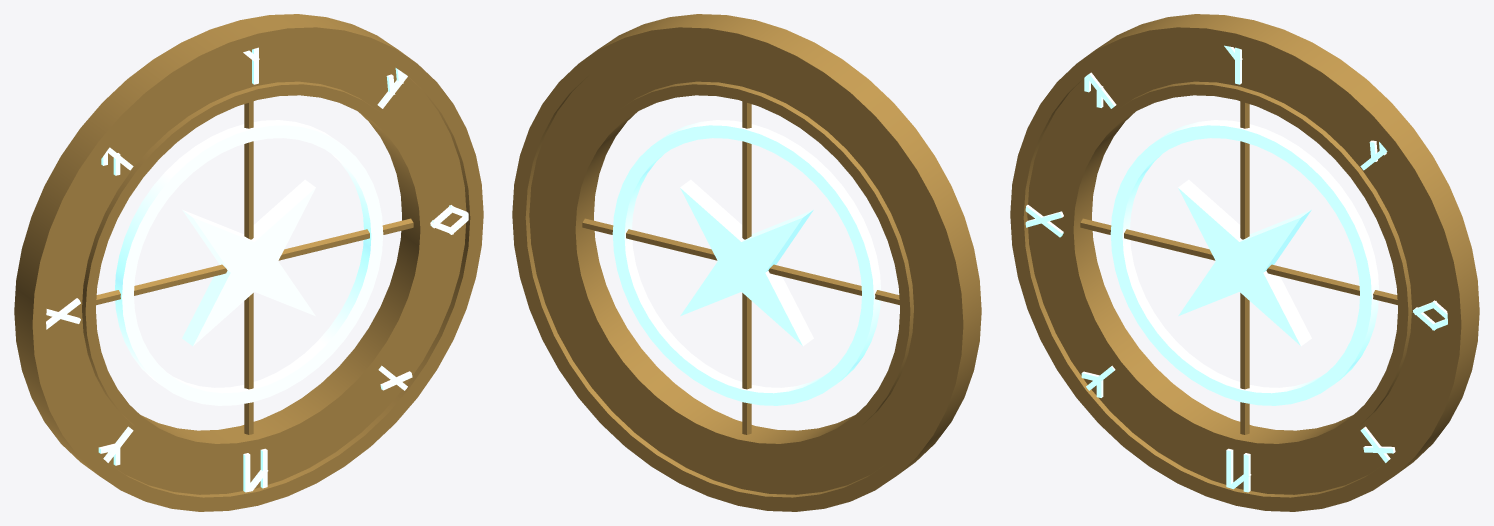
Rendered from rune_ring.glb.
The picture shows the model from 3 angles, left to right: view 1: azimuth 30°, elevation 25°; view 2: azimuth 150°, elevation 25°; view 3: azimuth 330°, elevation 25°; orthographic projection.
Parts seen in each view (by area): view 1: rune_ring; view 2: rune_ring; view 3: rune_ring.
Boxes of the visible parts, x1,y1,x2,y2 form: rune_ring: (14, 14, 483, 511); rune_ring: (512, 14, 981, 511); rune_ring: (1010, 14, 1479, 511).
Bounding box in the file's own units: 0.57 × 0.57 × 0.04.
